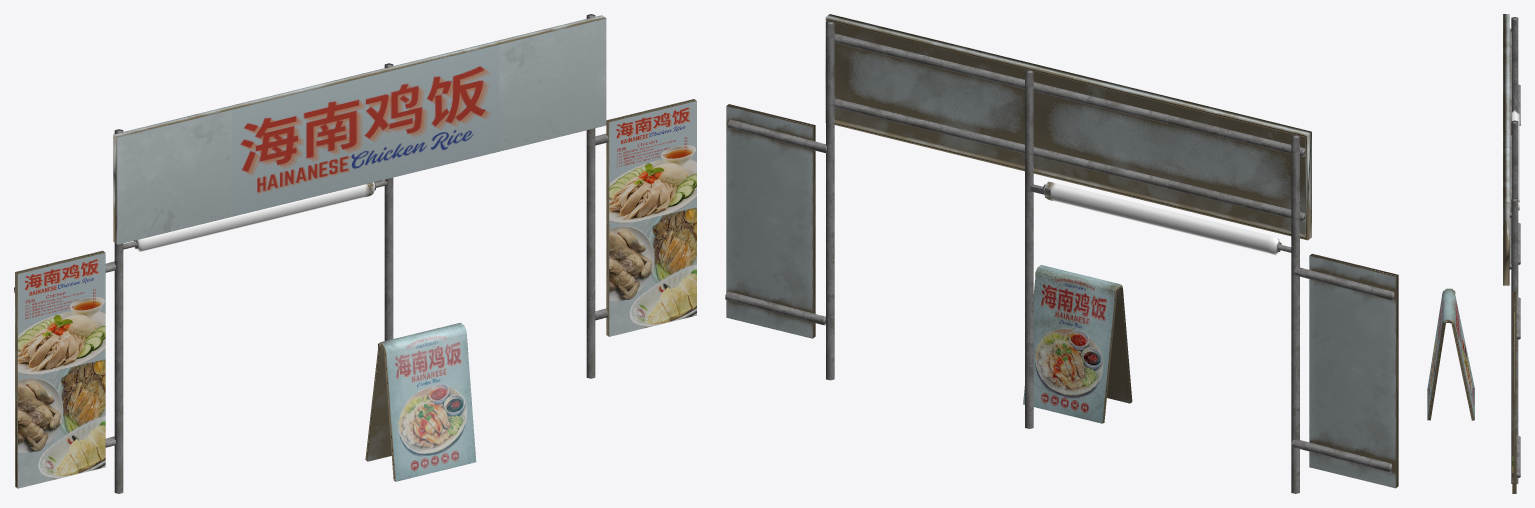
File: hawker_signage_final.fbx
The picture shows the model from 3 angles, left to right: view 1: azimuth 30°, elevation 25°; view 2: azimuth 150°, elevation 25°; view 3: azimuth 270°, elevation 25°; orthographic projection. The views are drawn at different scales.
Parts seen in each view (by area): view 1: signage_base, pCube1, pCube2, signage, signage_light, signage_pole2, signage_pole3, signage_pole4; view 2: signage_base, pCube1, pCube2, signage, signage_light, signage_pole, signage_pole1, signage_pole2, signage_pole4, signage_pole3, signage_pole8, signage_pole5 (+2 smaller); view 3: signage, signage_base, signage_pole2, pCube2, signage_pole3, signage_pole, signage_pole4, signage_light, signage_pole8, signage_pole7, signage_pole1, signage_pole6.
Part boxes in pixels (x1,y1,x2,y2): signage_base: (113, 15, 606, 244); pCube1: (15, 250, 105, 488); pCube2: (606, 99, 696, 336); signage: (365, 322, 476, 481); signage_light: (123, 180, 387, 252); signage_pole2: (586, 14, 595, 378); signage_pole3: (114, 129, 123, 493); signage_pole4: (384, 63, 393, 340); signage_base: (825, 14, 1311, 240); pCube1: (1309, 253, 1398, 488); pCube2: (726, 104, 815, 338); signage: (1023, 265, 1132, 423); signage_light: (1030, 181, 1291, 255); signage_pole: (834, 33, 1305, 156); signage_pole1: (834, 98, 1305, 221); signage_pole2: (826, 20, 834, 380); signage_pole4: (1025, 69, 1033, 428); signage_pole3: (1291, 134, 1299, 493); signage_pole8: (725, 291, 825, 325); signage_pole5: (1294, 267, 1394, 300); signage: (1427, 288, 1474, 420); signage_base: (1503, 14, 1509, 285); signage_pole2: (1511, 198, 1518, 483); pCube2: (1512, 291, 1516, 493); signage_pole3: (1511, 17, 1518, 112); signage_pole: (1509, 28, 1511, 217); signage_pole4: (1511, 120, 1518, 198); signage_light: (1512, 109, 1519, 210); signage_pole8: (1516, 435, 1520, 478); signage_pole7: (1516, 297, 1520, 340); signage_pole1: (1509, 218, 1511, 269); signage_pole6: (1518, 222, 1520, 264).
Bounding box in the file's own units: 53.26 × 27.42 × 8.06.
Materials: 1 (1 with a texture image).
